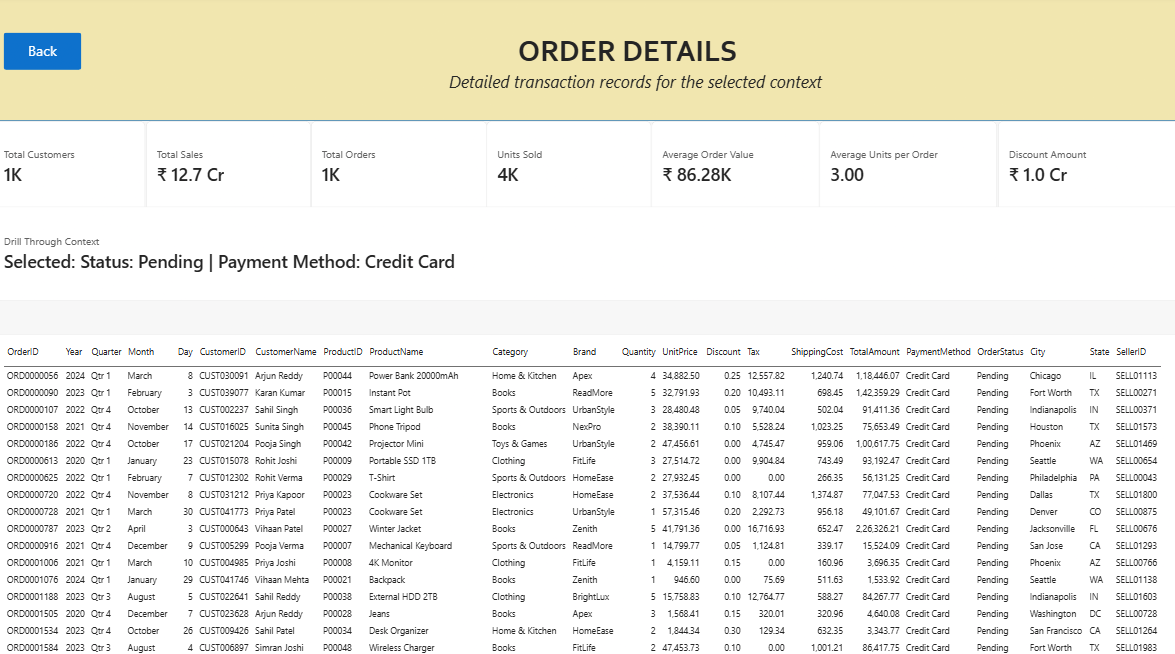

The dashboard page shown, as its layout file describes it:
{"tool":"powerbi","page":{"name":"Order Details","canvas":[1920,1080],"ordinal":5},"visuals":[{"type":"shape","box":[0,0,1920.7,200.4],"z":0},{"type":"textbox","box":[835,60,360,60],"z":1000},{"type":"textbox","box":[725,120,612.5,80],"z":2000},{"type":"actionButton","box":[16.7,59.6,124.1,59.6],"z":3000},{"type":"cardVisual","fields":{"Data":["Amazon_ETL_Processed.Total Sales Adaptive"]},"box":[242.5,200,262.5,145],"z":4000},{"type":"cardVisual","fields":{"Data":["Amazon_ETL_Processed.Total Orders"]},"box":[505,200,280,145],"z":5000},{"type":"cardVisual","fields":{"Data":["Amazon_ETL_Processed.Units Sold"]},"box":[785,200,262.5,145],"z":6000},{"type":"cardVisual","fields":{"Data":["Amazon_ETL_Processed.Average Order Value"]},"box":[1047.5,200,267.5,145],"z":7000},{"type":"cardVisual","fields":{"Data":["Amazon_ETL_Processed.Discount Amount Adaptive"]},"box":[1597.5,200,322.5,145],"z":8000},{"type":"cardVisual","fields":{"Data":["Amazon_ETL_Processed.Total Customers"]},"box":[0,200,242.5,145],"z":9000},{"type":"cardVisual","fields":{"Data":["Amazon_ETL_Processed.Average Units per Order"]},"box":[1315,200,282.5,145],"z":10000},{"type":"tableEx","fields":{"Values":["Amazon_ETL_Processed.OrderID","Amazon_ETL_Processed.OrderDate.Variation.Date Hierarchy.Year","Amazon_ETL_Processed.OrderDate.Variation.Date Hierarchy.Quarter","Amazon_ETL_Processed.OrderDate.Variation.Date Hierarchy.Month","Amazon_ETL_Processed.OrderDate.Variation.Date Hierarchy.Day","Amazon_ETL_Processed.CustomerID","Amazon_ETL_Processed.CustomerName","Amazon_ETL_Processed.ProductID","Amazon_ETL_Processed.ProductName","Amazon_ETL_Processed.Category","Amazon_ETL_Processed.Brand","Amazon_ETL_Processed.Quantity"]},"box":[0,540,1920,540],"z":11000},{"type":"cardVisual","fields":{"Data":["Amazon_ETL_Processed.Drill Through Context"]},"box":[0,336.4,1920.7,150.3],"z":12000}]}

Visuals, with their boxes in screenshot pixels (x1, y1, x2, y2), scaled from the page's 1920x1080 canvas onto the 1175x654 screenshot:
shape: region(0, 0, 1174, 121)
textbox: region(511, 36, 731, 73)
textbox: region(444, 73, 819, 121)
actionButton: region(10, 36, 86, 72)
cardVisual - Amazon_ETL_Processed.Total Sales Adaptive: region(148, 121, 309, 209)
cardVisual - Amazon_ETL_Processed.Total Orders: region(309, 121, 480, 209)
cardVisual - Amazon_ETL_Processed.Units Sold: region(480, 121, 641, 209)
cardVisual - Amazon_ETL_Processed.Average Order Value: region(641, 121, 805, 209)
cardVisual - Amazon_ETL_Processed.Discount Amount Adaptive: region(978, 121, 1174, 209)
cardVisual - Amazon_ETL_Processed.Total Customers: region(0, 121, 148, 209)
cardVisual - Amazon_ETL_Processed.Average Units per Order: region(805, 121, 978, 209)
tableEx - Amazon_ETL_Processed.OrderID x Amazon_ETL_Processed.OrderDate.Variation.Date Hierarchy.Year: region(0, 327, 1174, 653)
cardVisual - Amazon_ETL_Processed.Drill Through Context: region(0, 204, 1174, 295)
